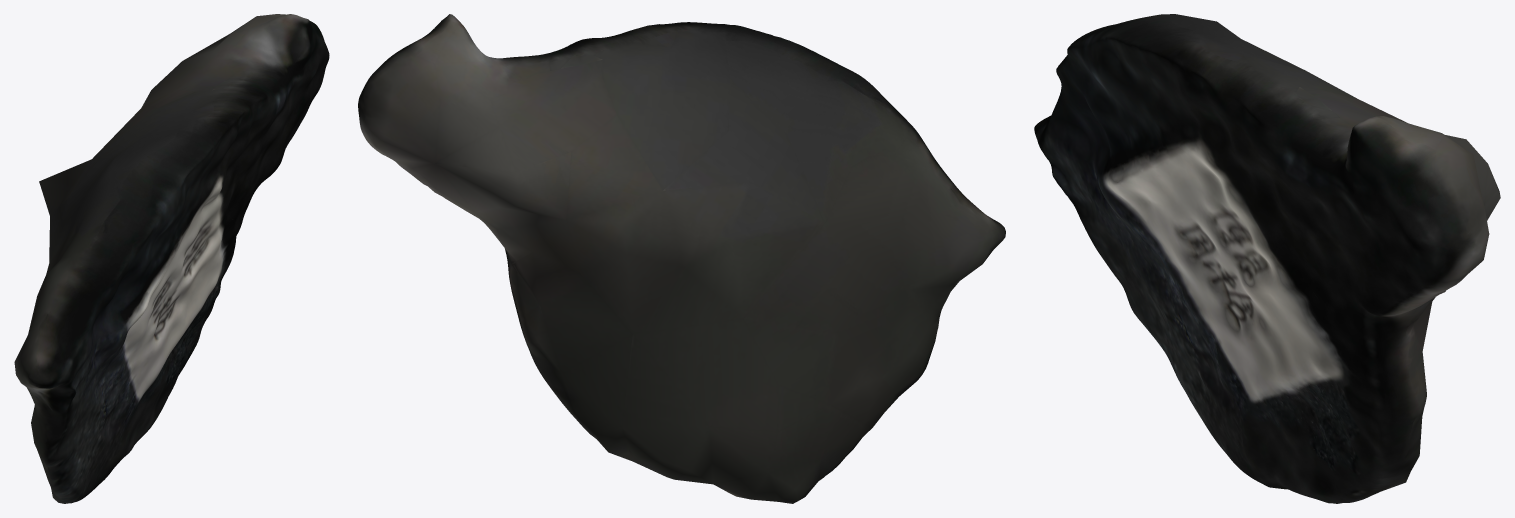
3 renders of one model, left to right at view 1: azimuth 30°, elevation 25°; view 2: azimuth 150°, elevation 25°; view 3: azimuth 270°, elevation 25°, orthographic. The views are drawn at different scales.
Size of the model in its own units: 0.3459 by 0.3007 by 0.2362.
Materials: 1 (1 with a texture image).
